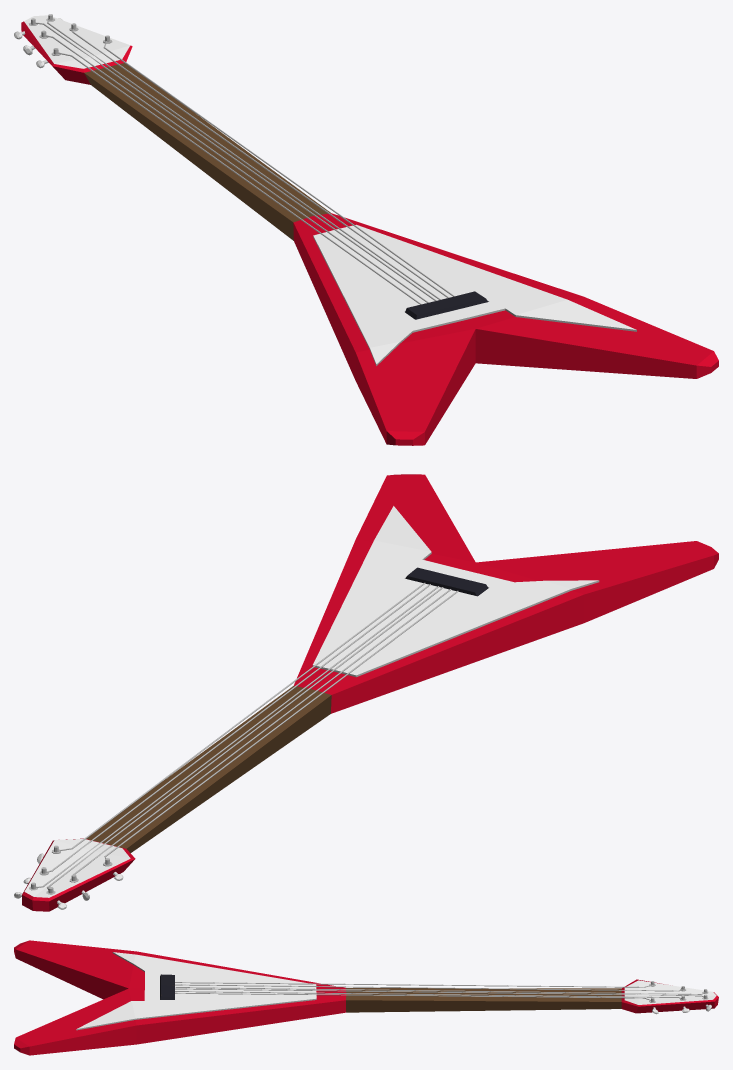
File: Guitar.glb
The picture shows the model from 3 angles, top to bottom: view 1: azimuth 30°, elevation 25°; view 2: azimuth 150°, elevation 25°; view 3: azimuth 270°, elevation 25°; orthographic projection. The views are drawn at different scales.
Visible parts, largest first — view 1: Guitar; view 2: Guitar; view 3: Guitar.
Boxes of the visible parts, x1,y1,x2,y2 form: Guitar: [14, 14, 718, 445]; Guitar: [14, 474, 718, 911]; Guitar: [14, 940, 718, 1055].
Bounding box in the file's own units: 0.5518 × 0.0624 × 1.55.
1 material, 1 textured.
